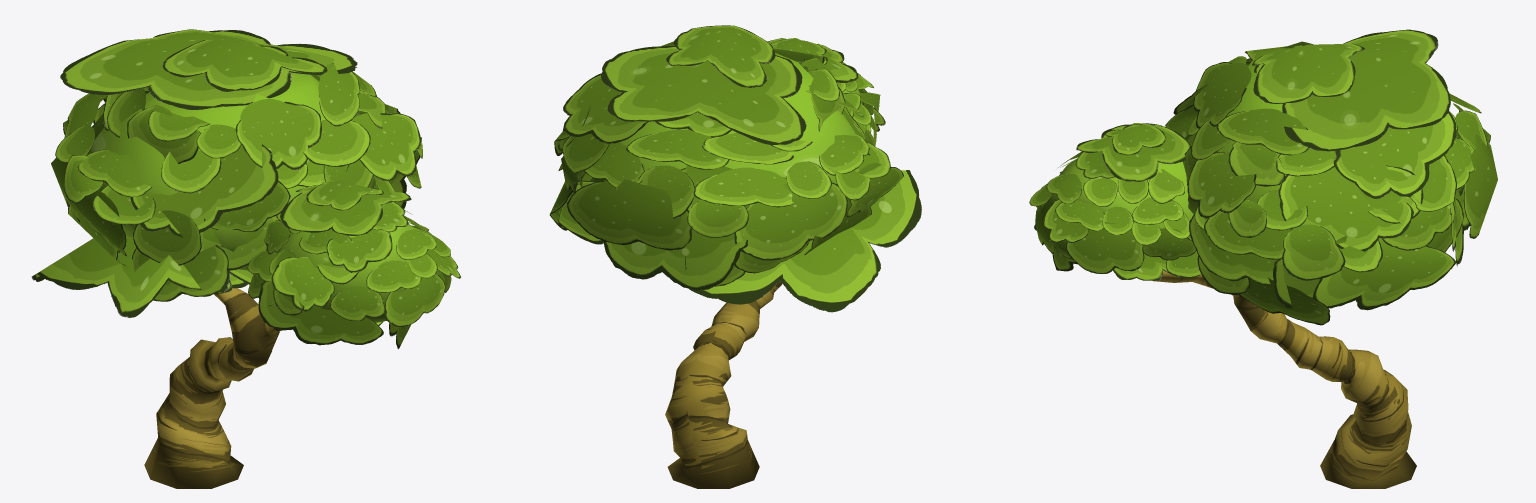
The model's file is tree-curvy.FBX.
3 views of the same model, side by side, from view 1: azimuth 30°, elevation 25°; view 2: azimuth 150°, elevation 25°; view 3: azimuth 270°, elevation 25° (orthographic). The views are drawn at different scales.
Parts seen in each view (by area): view 1: Curvy Trunk, Leaf18, Leaf35, Leaf Base Big, Leaf33, Leaf87, Leaf30, Leaf61, Leaf53, Leaf47, Leaf90, Leaf66 (+33 smaller); view 2: Leaf18, Curvy Trunk, Leaf35, Leaf06, Leaf93, Leaf13, Leaf87, Leaf Base Big, Leaf02, Leaf20, Leaf00, Leaf89 (+18 smaller); view 3: Curvy Trunk, Leaf18, Leaf05, Leaf02, Leaf22, Leaf87, Leaf47, Leaf53, Leaf07, Leaf49, Leaf30, Leaf58 (+36 smaller).
Boxes of the visible parts, x1,y1,x2,y2 form: Curvy Trunk: (144,288,282,488); Leaf18: (60,29,357,109); Leaf35: (31,235,253,317); Leaf Base Big: (89,72,374,270); Leaf33: (130,144,278,237); Leaf87: (162,40,327,91); Leaf30: (235,99,321,169); Leaf61: (258,281,383,345); Leaf53: (280,185,411,235); Leaf47: (351,113,420,180); Leaf90: (132,210,201,265); Leaf66: (271,257,334,311); Leaf18: (601,46,806,144); Curvy Trunk: (665,280,782,488); Leaf35: (687,170,921,312); Leaf06: (567,179,692,250); Leaf93: (573,180,747,290); Leaf13: (734,182,847,260); Leaf87: (666,25,775,87); Leaf Base Big: (604,53,856,183); Leaf02: (563,73,648,143); Leaf20: (693,167,799,207); Leaf00: (626,129,729,169); Leaf89: (702,133,793,164); Curvy Trunk: (1152,270,1416,488); Leaf18: (1254,29,1450,151); Leaf05: (1278,167,1413,251); Leaf02: (1333,112,1456,198); Leaf22: (1312,238,1456,310); Leaf87: (1252,43,1364,103); Leaf47: (1187,152,1256,218); Leaf53: (1076,123,1190,181); Leaf07: (1282,224,1345,280); Leaf49: (1216,108,1309,155); Leaf30: (1193,62,1251,128); Leaf58: (1065,222,1144,273).
Bounding box in the file's own units: 4.8 × 4.69 × 4.93.
